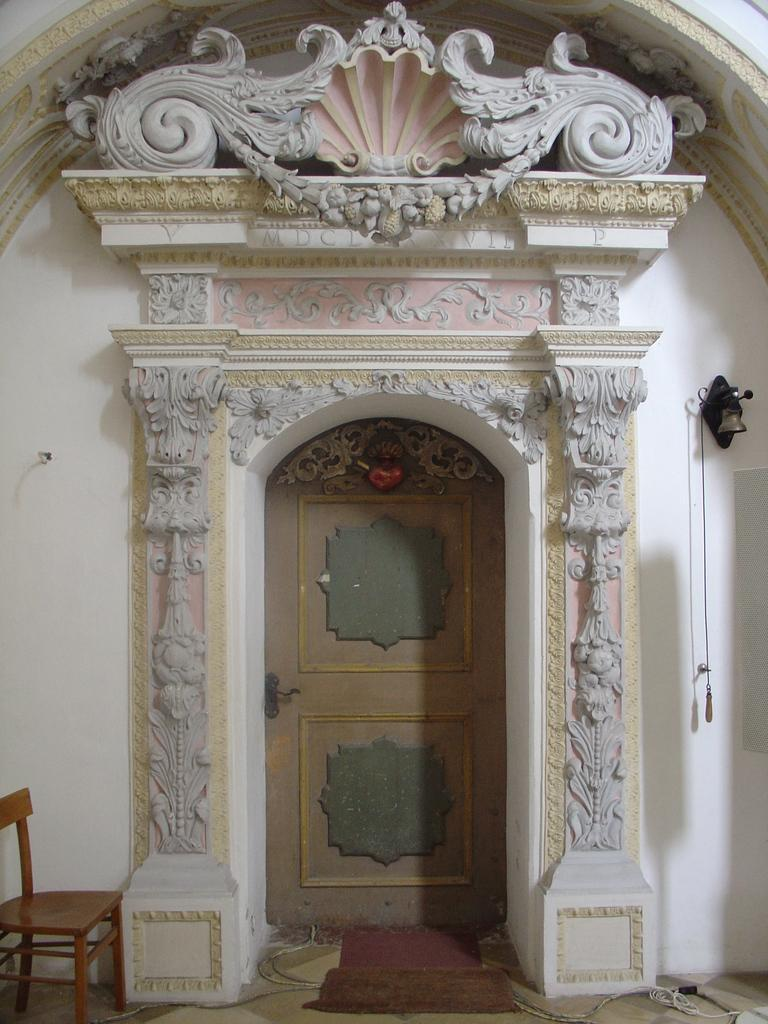Chair: (0, 786, 125, 1023)
